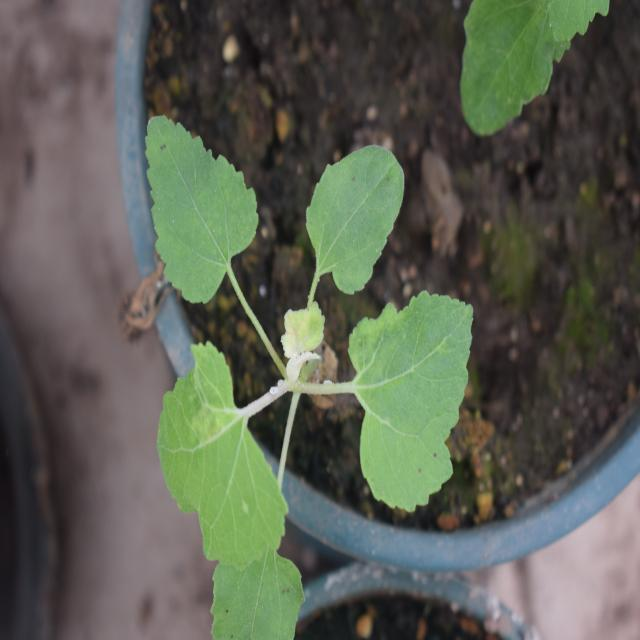cocklebur: (118, 100, 461, 595)
